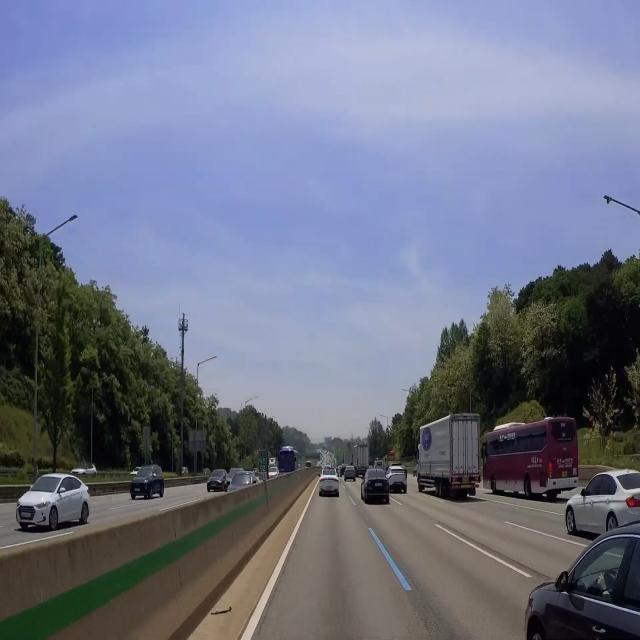car: (460, 477, 471, 485), (561, 470, 568, 480), (373, 481, 384, 487), (325, 485, 333, 492), (394, 482, 403, 487)
